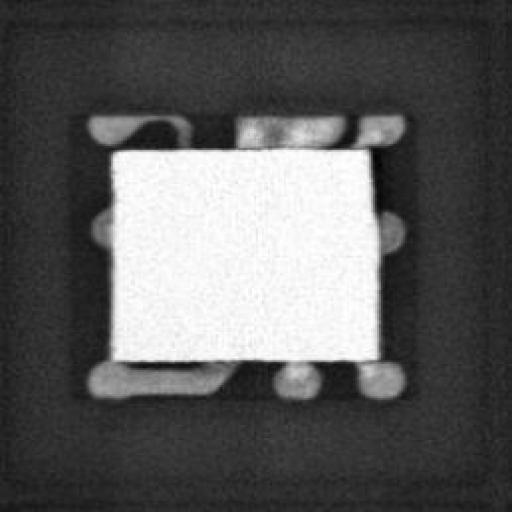DIE_BROKEN: (363, 140, 383, 216)
